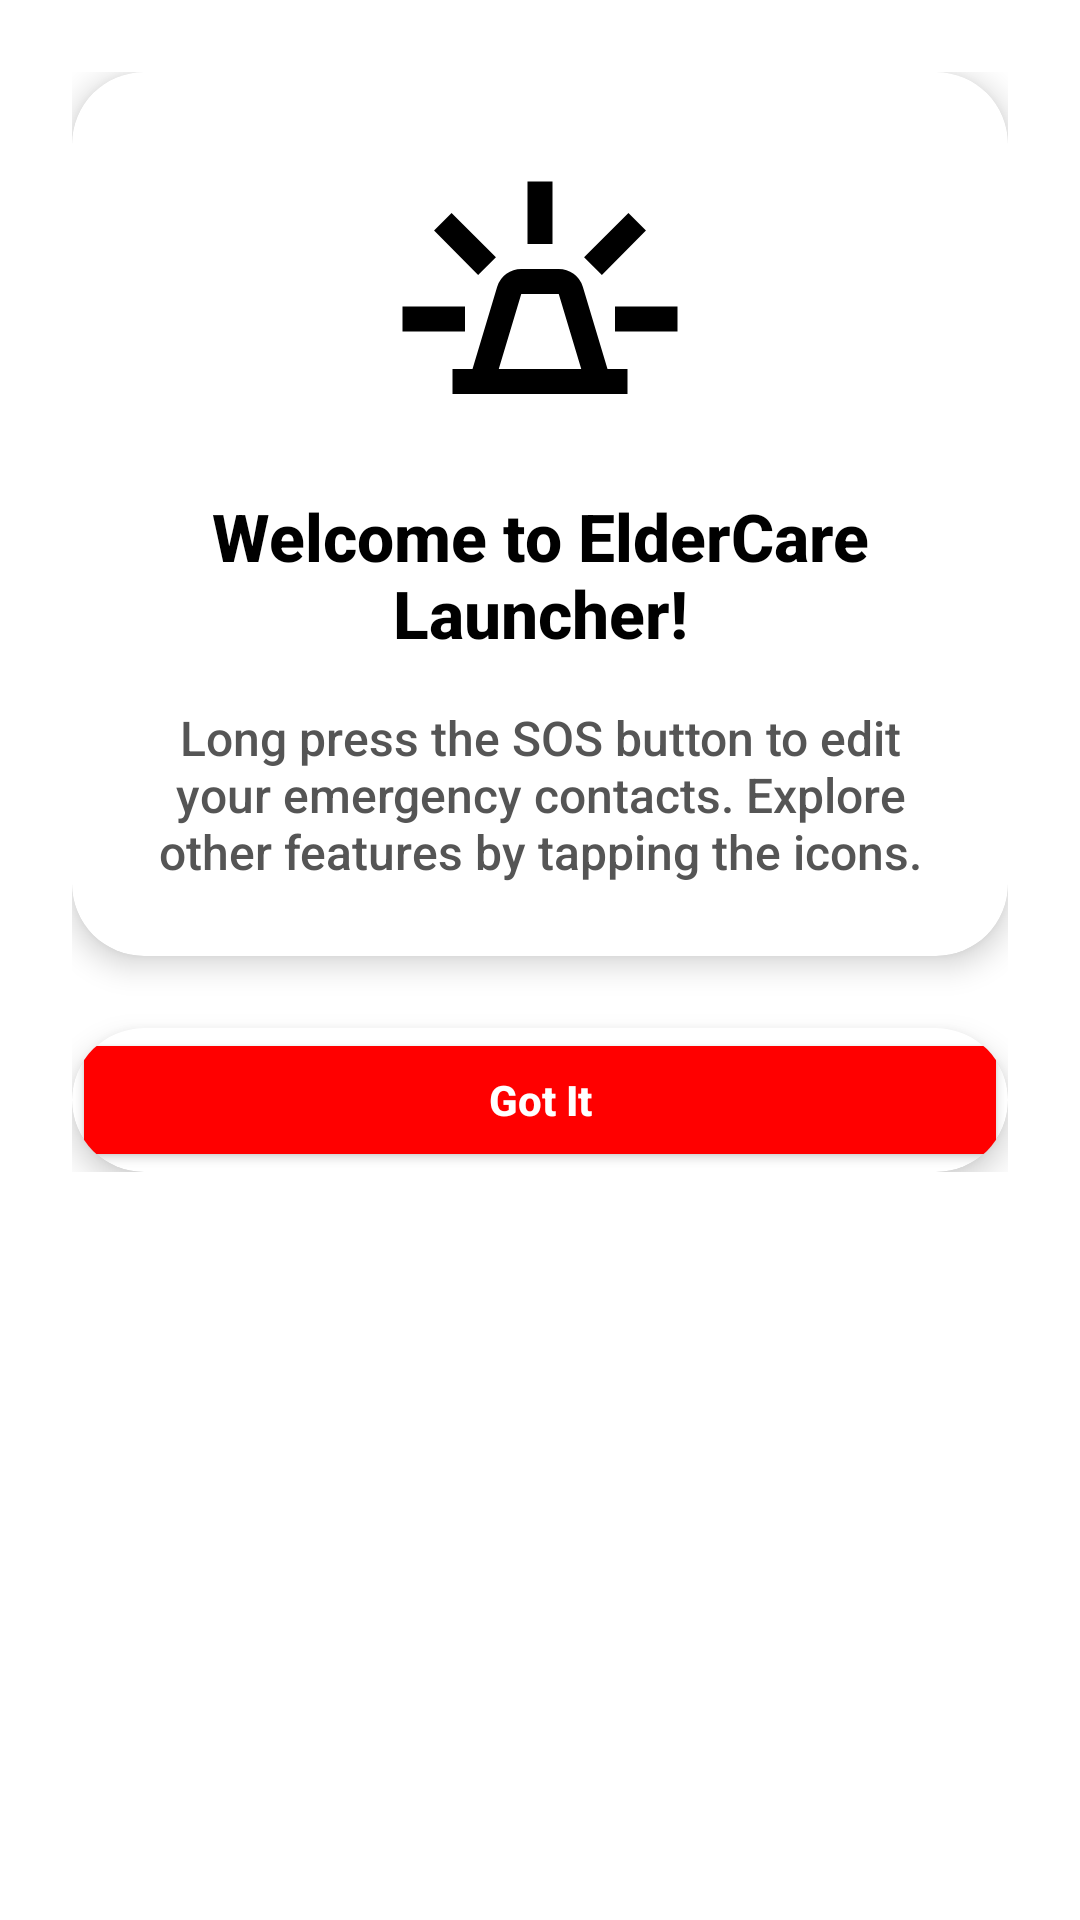

Where icons sit on this 1080px x 1920px app screen, as (x1, y1, x2, y2):
SOS icon: (402, 181, 678, 394)
